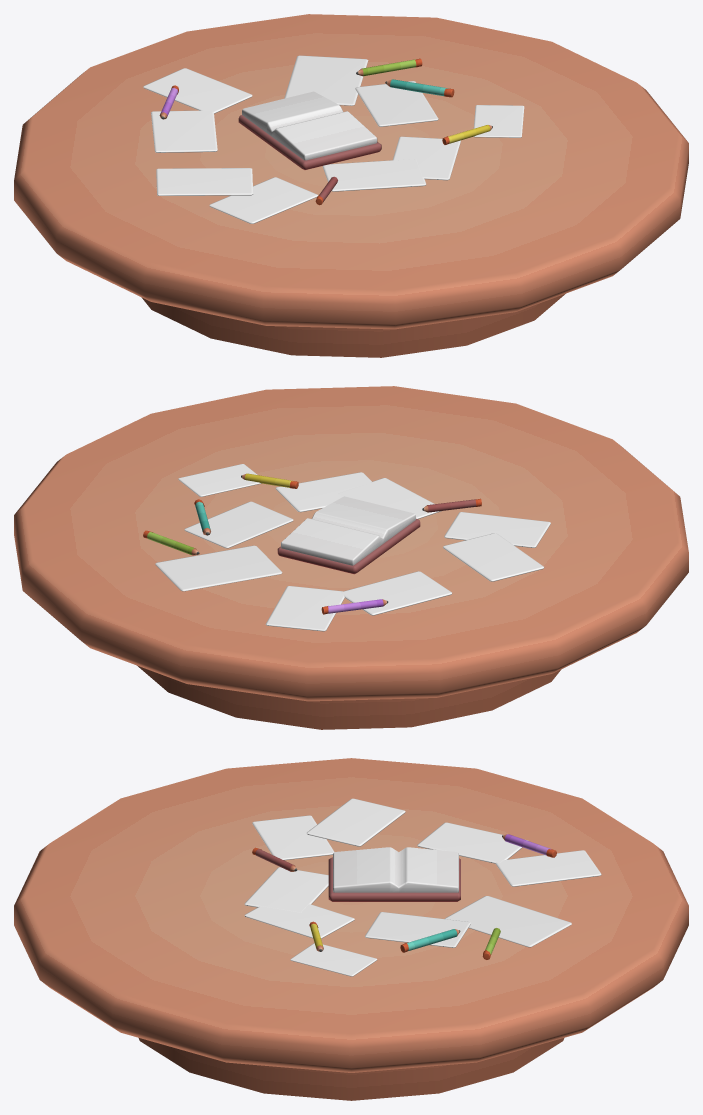
File: SM_Table_Books.fbx
3 views of the same model, one above another, from view 1: azimuth 30°, elevation 25°; view 2: azimuth 150°, elevation 25°; view 3: azimuth 270°, elevation 25° (orthographic).
Parts seen in each view (by area): view 1: SM_Character_Books; view 2: SM_Character_Books; view 3: SM_Character_Books.
Part boxes in pixels (x1,y1,x2,y2): SM_Character_Books: [14, 14, 688, 357]; SM_Character_Books: [14, 386, 688, 729]; SM_Character_Books: [14, 758, 688, 1100].
Size of the model in its own units: 268 by 57.1 by 268.
1 material, 1 textured.
